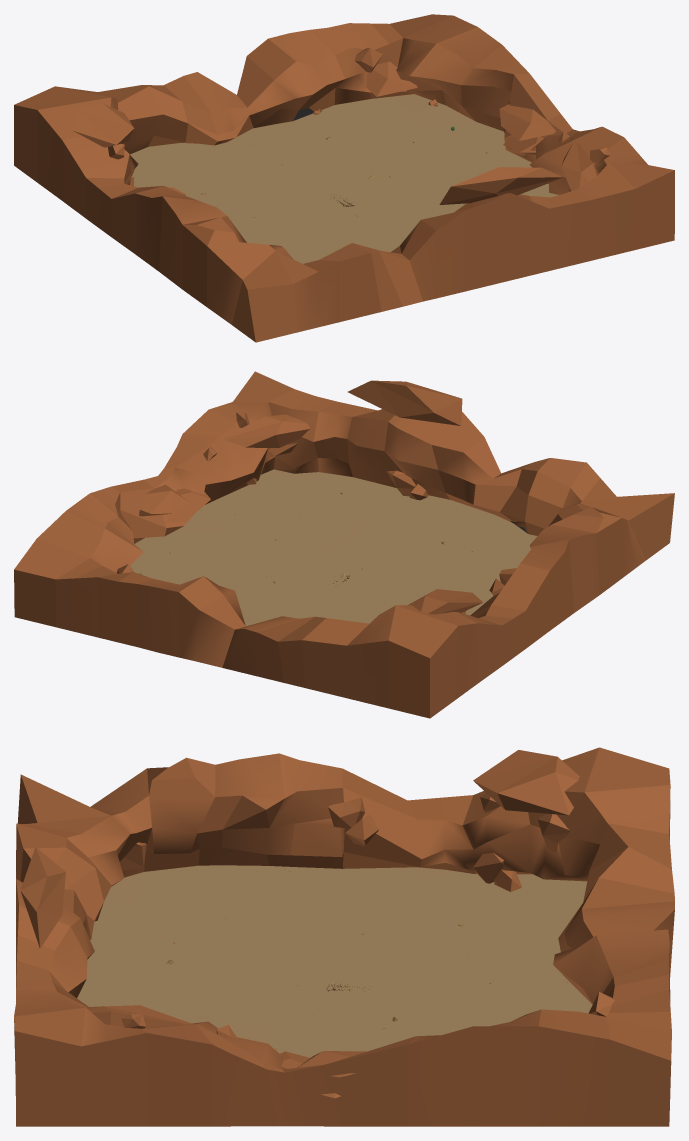
Rendered from Enviroment.fbx.
3 renders of one model, top to bottom at view 1: azimuth 30°, elevation 25°; view 2: azimuth 150°, elevation 25°; view 3: azimuth 270°, elevation 25°, orthographic. The views are drawn at different scales.
Visible parts, largest first — view 1: Enviroment_base, pPlatonic38, pPlatonic47, pPlatonic36, pPlatonic39, pPlatonic37; view 2: Enviroment_base, pPlatonic38, pPlatonic39, pPlatonic47, pPlatonic36, pPlatonic35; view 3: Enviroment_base, pPlatonic47, pPlatonic38, pPlatonic39, pPlatonic121, pPlatonic33, pPlatonic46, pPlatonic95, pPlatonic36.
Boxes of the visible parts, x1,y1,x2,y2 form: Enviroment_base: [14, 14, 674, 342]; pPlatonic38: [439, 167, 562, 204]; pPlatonic47: [72, 104, 134, 147]; pPlatonic36: [499, 104, 555, 140]; pPlatonic39: [561, 138, 598, 190]; pPlatonic37: [366, 61, 417, 96]; Enviroment_base: [14, 371, 674, 718]; pPlatonic38: [347, 380, 462, 425]; pPlatonic39: [214, 414, 309, 447]; pPlatonic47: [408, 589, 482, 614]; pPlatonic36: [139, 484, 190, 516]; pPlatonic35: [167, 488, 210, 522]; Enviroment_base: [14, 747, 674, 1126]; pPlatonic47: [473, 750, 579, 815]; pPlatonic38: [20, 847, 65, 948]; pPlatonic39: [86, 1005, 204, 1028]; pPlatonic121: [328, 797, 364, 828]; pPlatonic33: [538, 813, 570, 852]; pPlatonic46: [473, 852, 504, 883]; pPlatonic95: [345, 814, 378, 845]; pPlatonic36: [297, 1051, 366, 1077].
Bounding box in the file's own units: 293 × 75.35 × 289.
